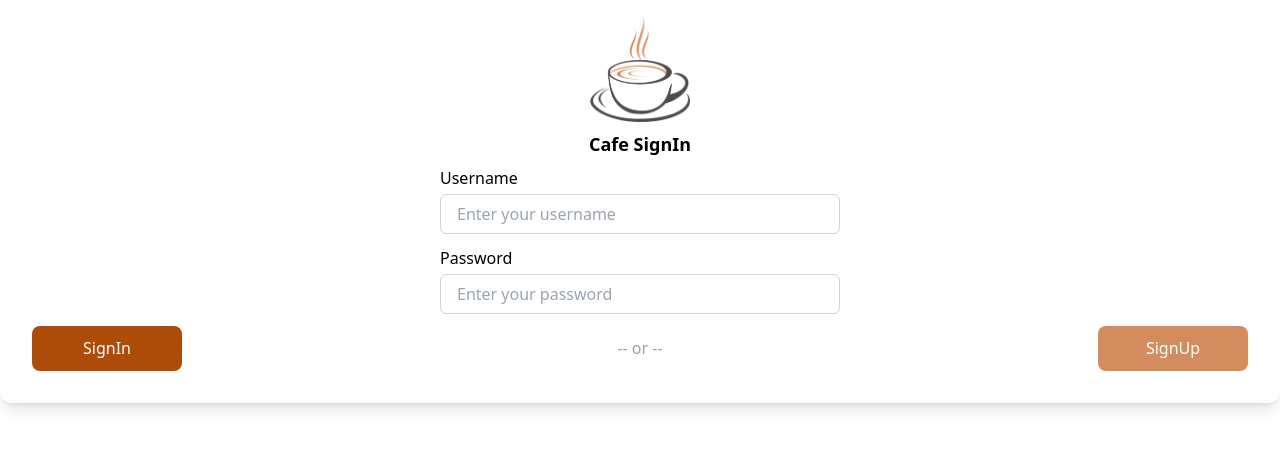
Test case: Test Cafe Login Page › shows password validation error
The width and height of the screenshot is (1280, 457).
Type "123" into the password field with placeholder "Enter your password". click: (640, 294)
box: top-left (440, 274), bottom-right (840, 314)
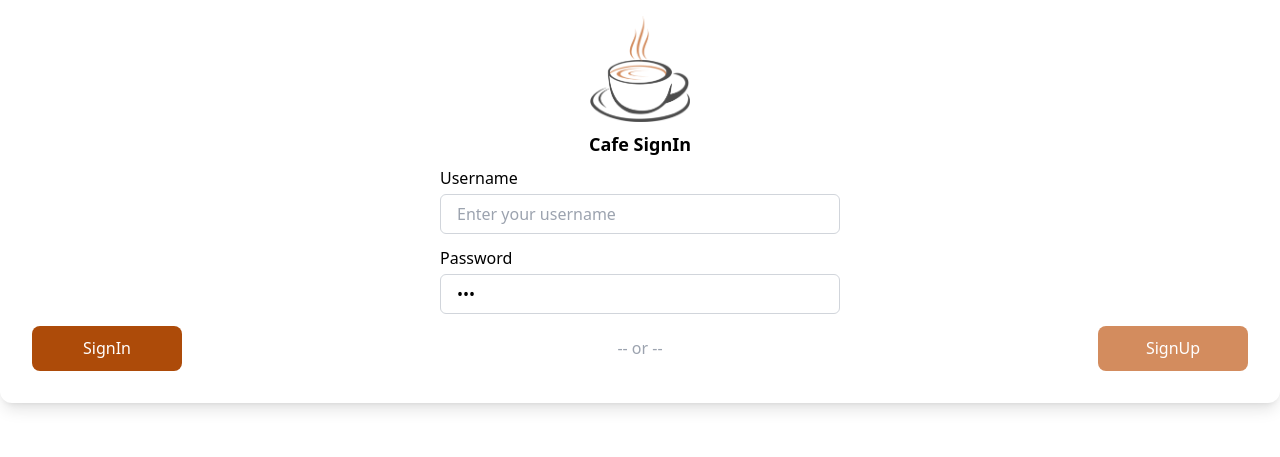
Leave the password field with placeholder "Enter your password", box top-left (440, 274), bottom-right (840, 314)
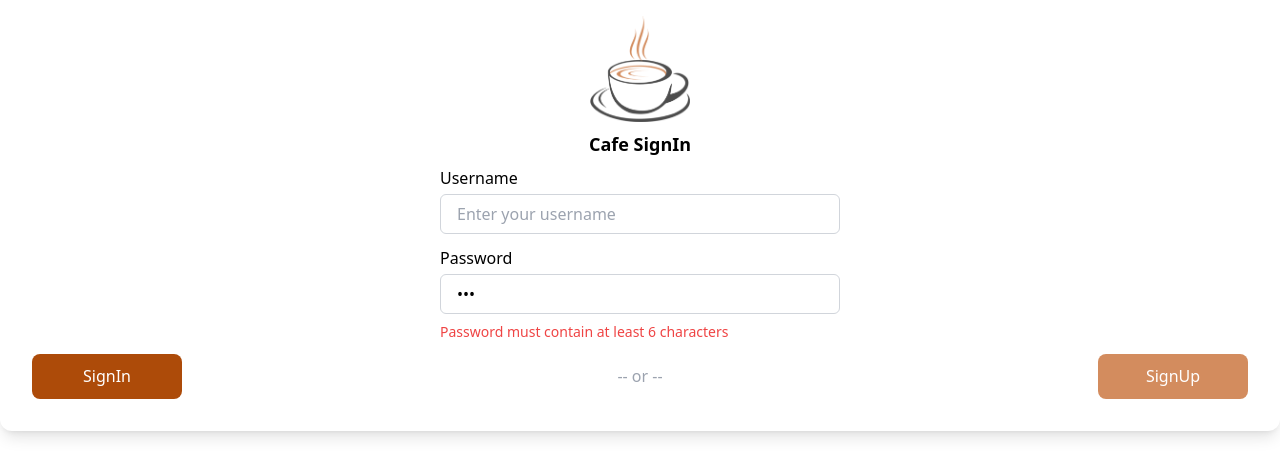
Now the text "Password must contain at least 6 characters" is shown, box top-left (440, 322), bottom-right (728, 341)
